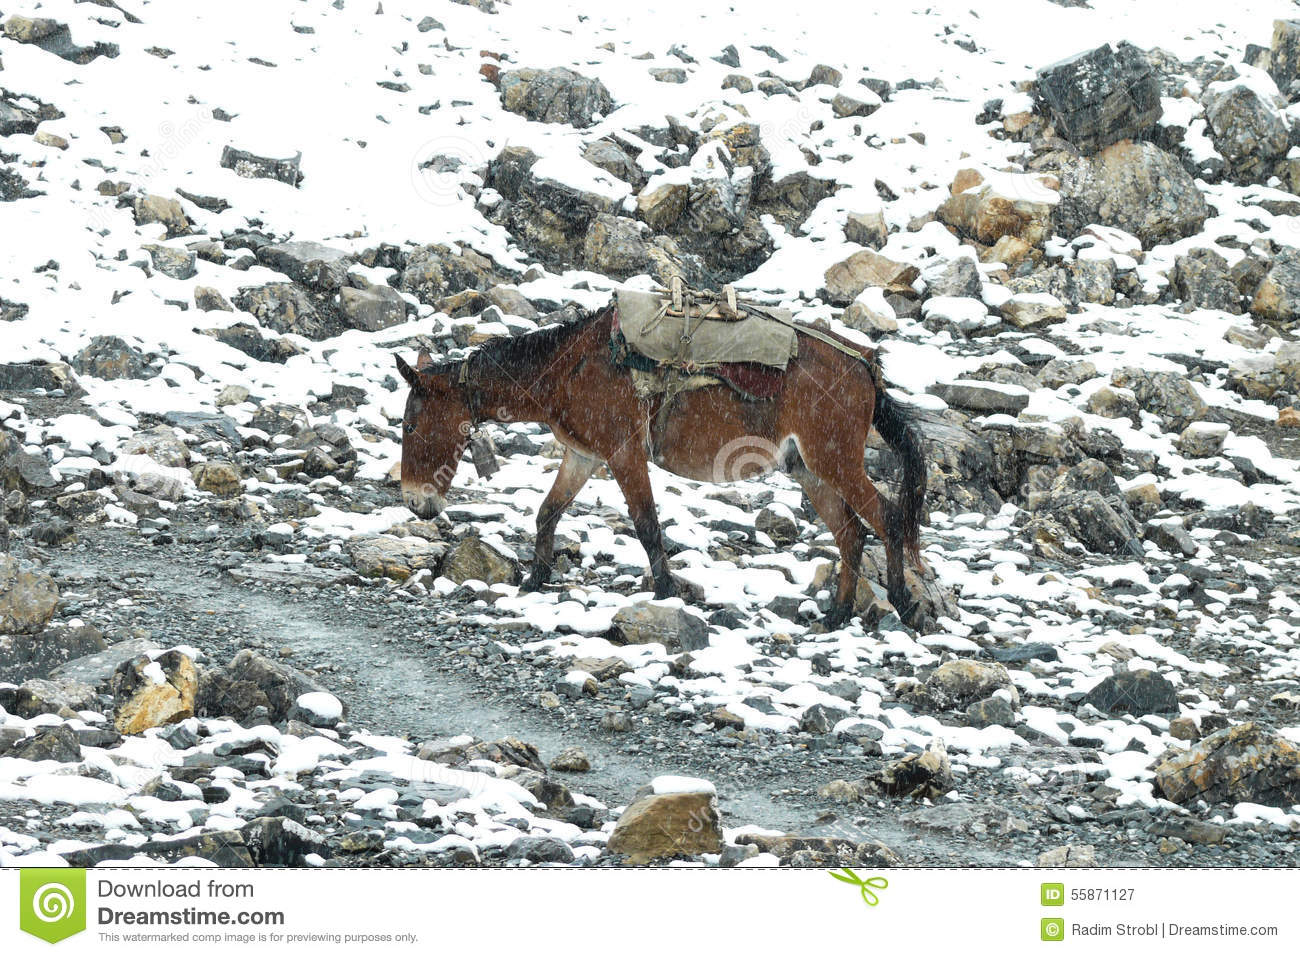equine: (359, 268, 961, 638)
